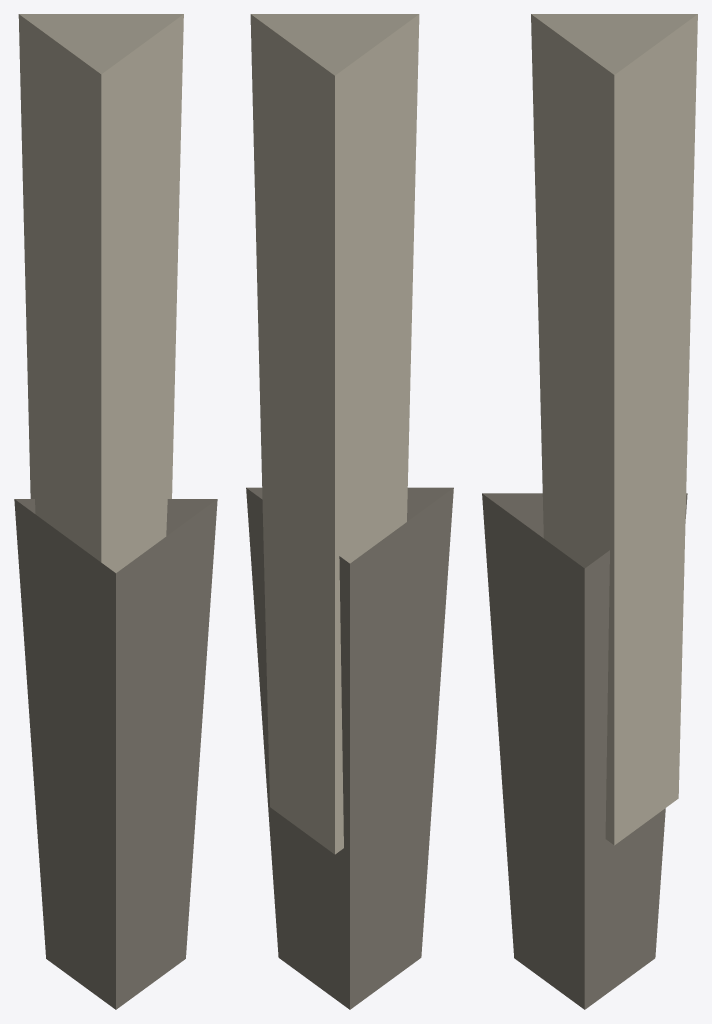
The model's file is pc_arm_r.obj.
The picture shows the model from 3 angles, left to right: view 1: azimuth 30°, elevation 25°; view 2: azimuth 150°, elevation 25°; view 3: azimuth 270°, elevation 25°; orthographic projection. The views are drawn at different scales.
Parts seen in each view (by area): view 1: pc_arm_r; view 2: pc_arm_r; view 3: pc_arm_r.
Boxes of the visible parts, x1,y1,x2,y2 form: pc_arm_r: (14, 14, 217, 1009); pc_arm_r: (246, 14, 453, 1009); pc_arm_r: (482, 14, 697, 1009).
Bounding box in the file's own units: 0.12 × 0.7 × 0.1456.
